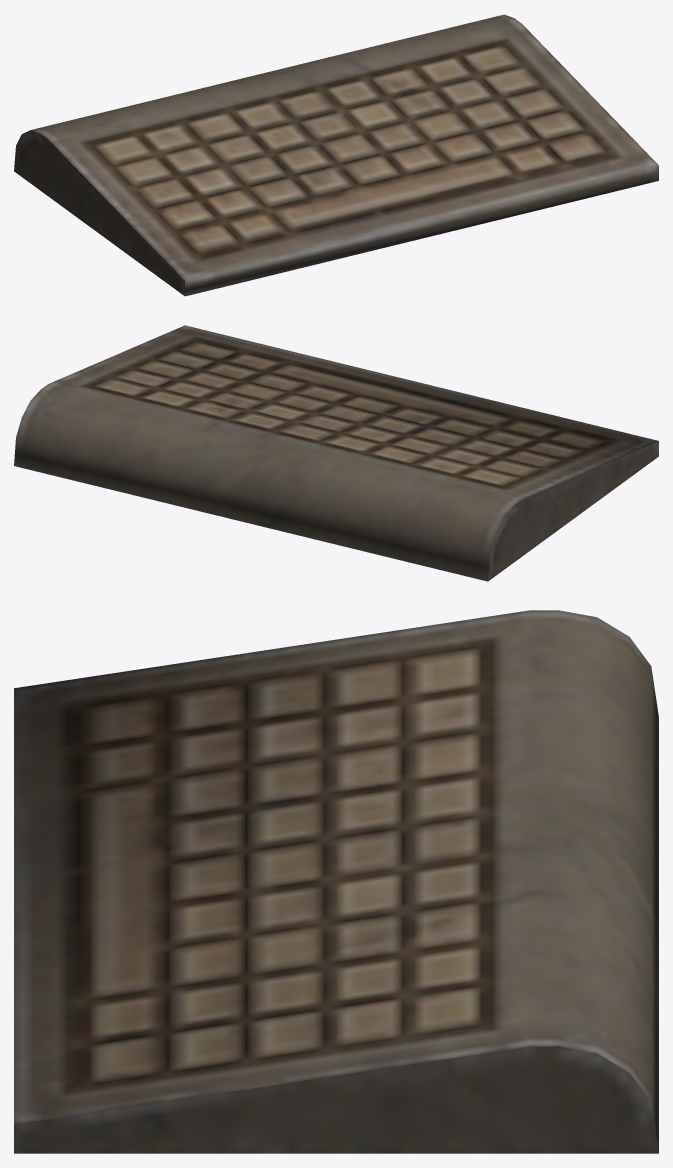
The model's file is computer_parts_keyboard_compact.dae.
3 views of the same model, one above another, from view 1: azimuth 30°, elevation 25°; view 2: azimuth 150°, elevation 25°; view 3: azimuth 270°, elevation 25° (orthographic). The views are drawn at different scales.
Visible parts, largest first — view 1: keyboard_compact__2_; view 2: keyboard_compact__2_; view 3: keyboard_compact__2_.
Part boxes in pixels (x1,y1,x2,y2): keyboard_compact__2_: (14, 14, 658, 296); keyboard_compact__2_: (14, 325, 658, 581); keyboard_compact__2_: (14, 610, 658, 1153).
Bounding box in the file's own units: 0.375 × 0.043 × 0.2344.
